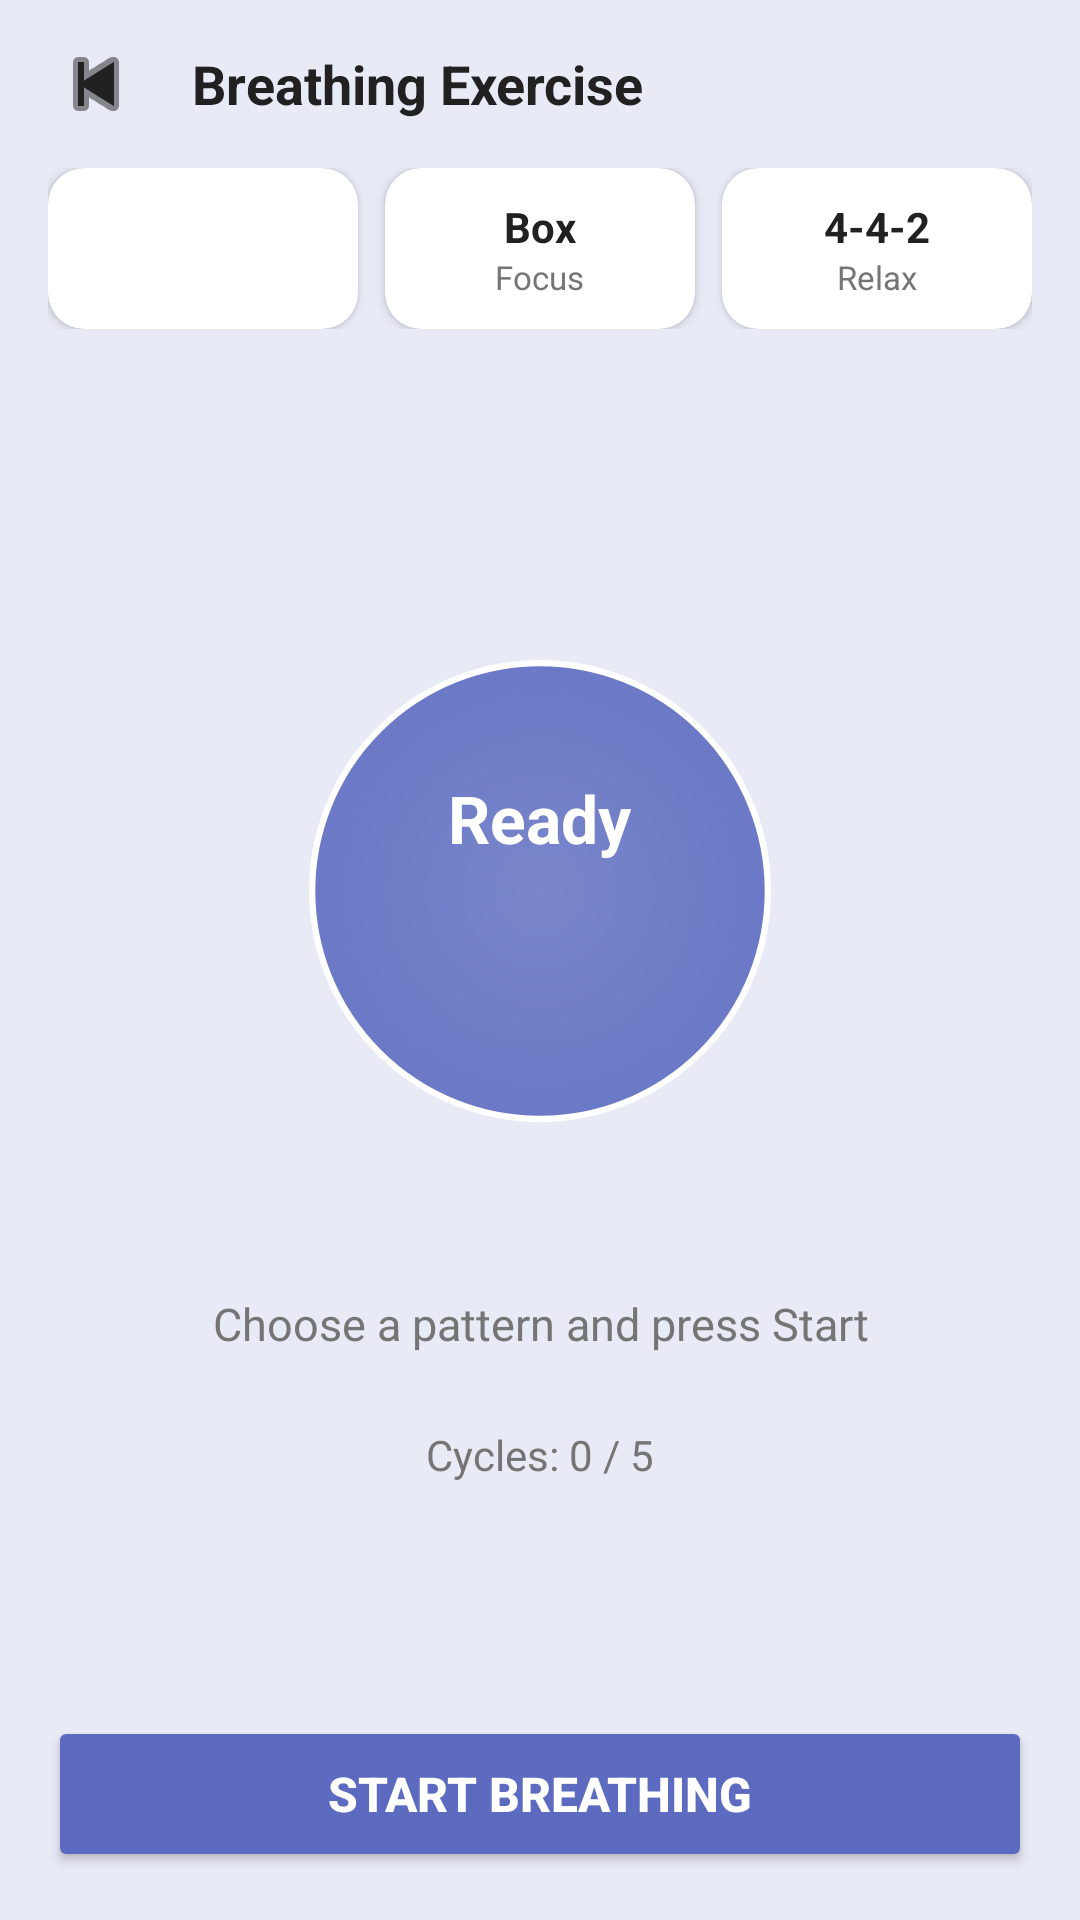

Icon bounding boxes for this 1080px×1920px phone screenshot, format box(x1, y1, x2, y2):
previous: box(73, 57, 119, 111)
